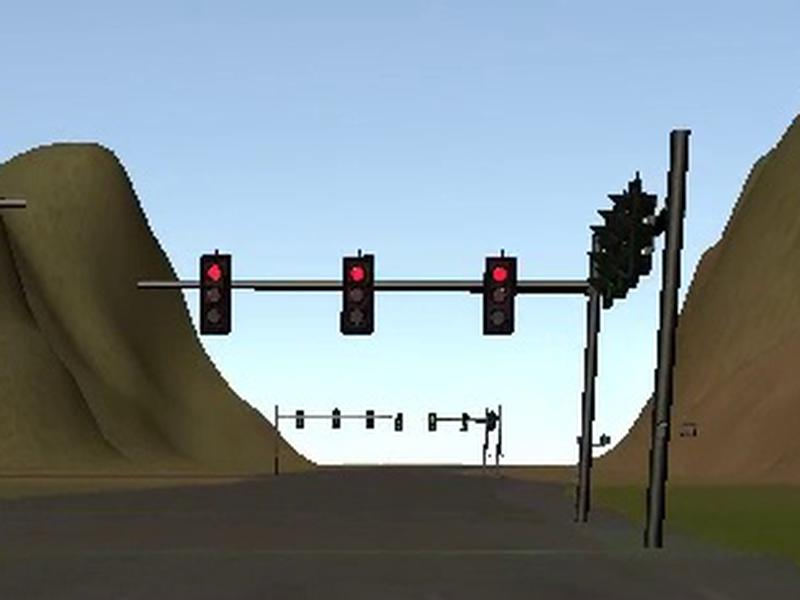Red: (341, 254, 375, 333), (201, 253, 231, 334), (484, 256, 515, 334)
